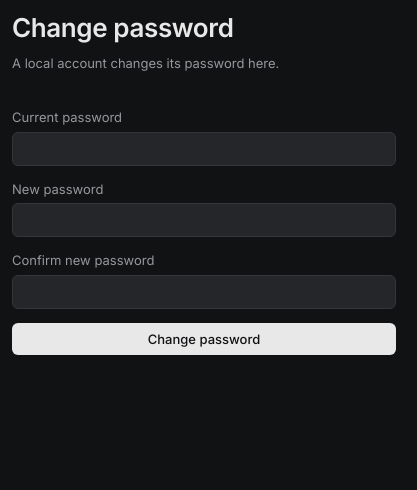
a network failure in en › is worded by the password form
Step 1. Type "old-password-1" into the password field labelled "Current password" → [204, 148], box [12, 132, 396, 166]
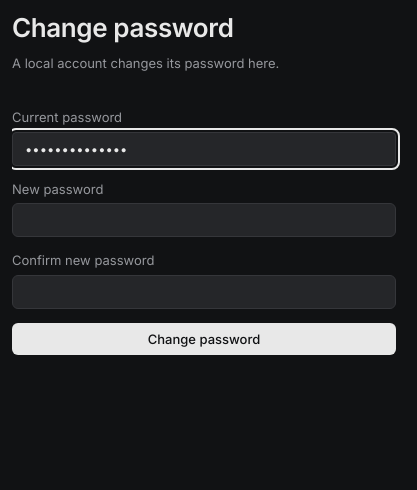
Step 2. Type "new-password-12" into the password field labelled "New password" → [204, 220], box [12, 203, 396, 237]
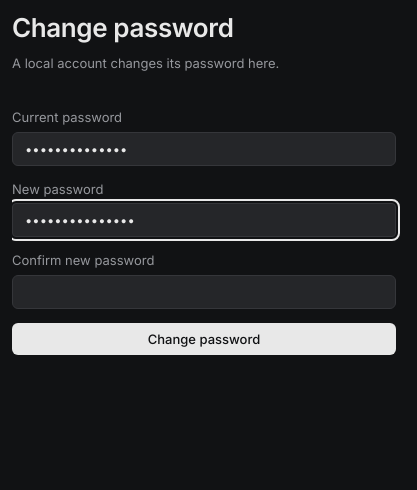
Step 3. Type "new-password-12" into the password field labelled "Confirm new password" → [204, 292], box [12, 274, 396, 308]
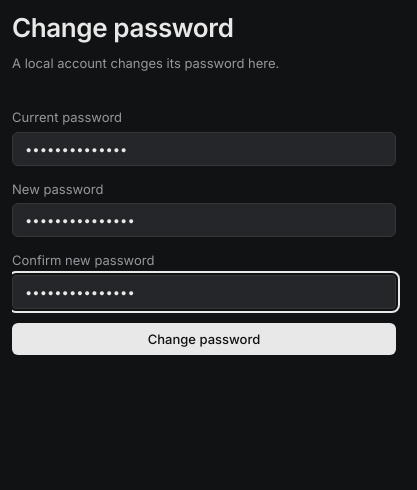
Step 4. Click the button "Change password" → [204, 338], box [12, 322, 396, 354]
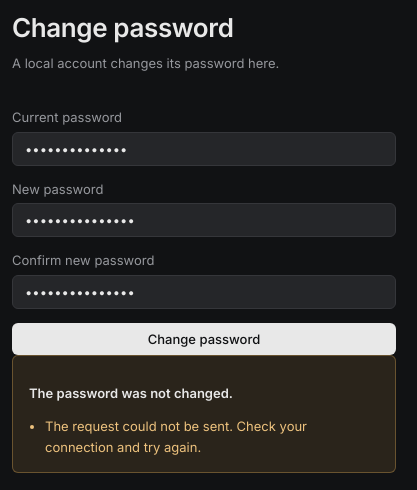
Check: the list item "The request could not be sent. Check your connection and try again." is shown, box [45, 418, 307, 455]
